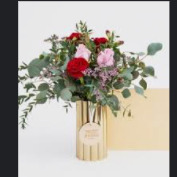RedRose: (64, 57, 90, 83), (64, 31, 87, 44), (92, 34, 112, 46)
